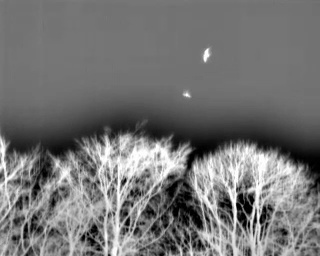BIRD: (181, 89, 193, 101)
